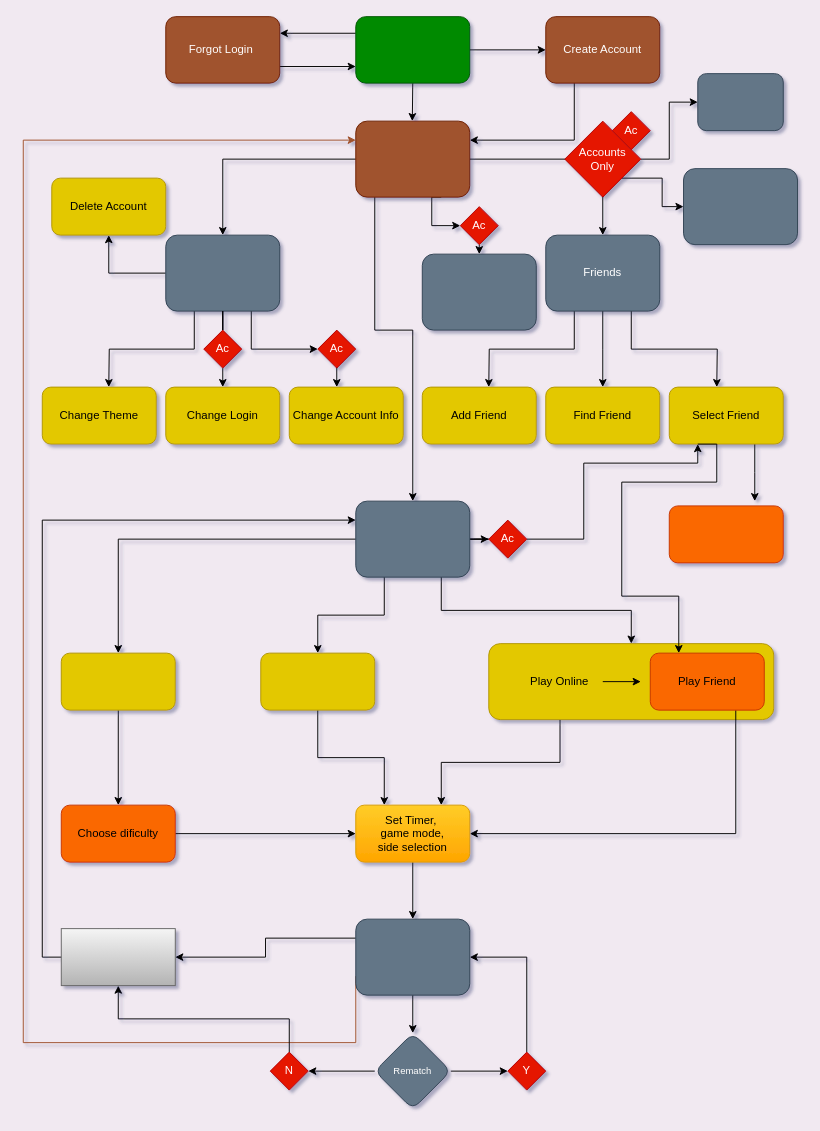
The diagram is 820 pixels wide and 1131 high, and some of its shapes have lost their labels. Here are the shapes that lost their labels. From the top down, the centre of each, then its label:
the point at 412,49: Login
the point at 740,102: Logout
the point at 412,158: Home
the point at 740,206: Notifications
the point at 222,272: Settings
the point at 478,291: History
the point at 412,538: Game Setup
the point at 725,534: Remove Friend
the point at 117,681: Play Computer
the point at 317,681: Pass and Play
the point at 117,957: New Game
the point at 412,956: Play Game
